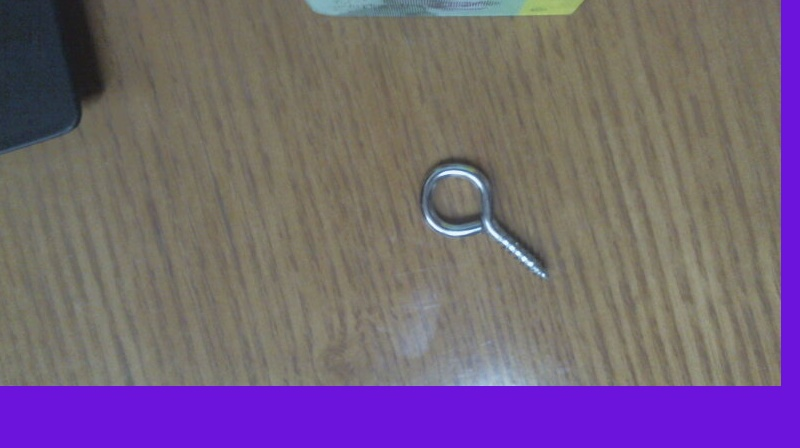O001: (417, 156, 553, 283)
